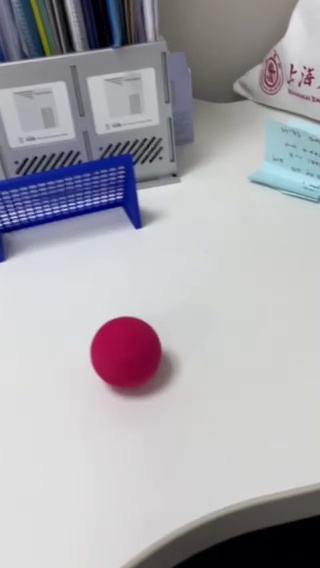goal: (0, 160, 141, 253)
redball: (89, 317, 163, 394)
